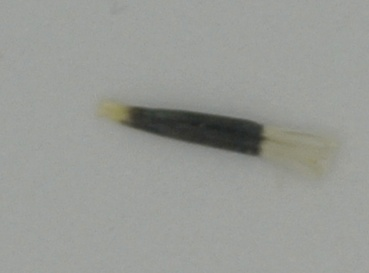เมล็ดดีติดกัน: (94, 99, 344, 173)
